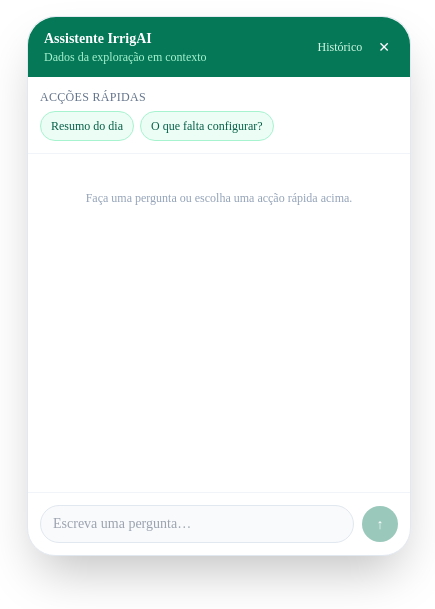
Scenario: ChatPanel › ignores conversation detail arriving after a newer send
Type "nova" into the field with placeholder "Escreva uma pergunta…". click: (197, 524)
box: [40,505,354,543]
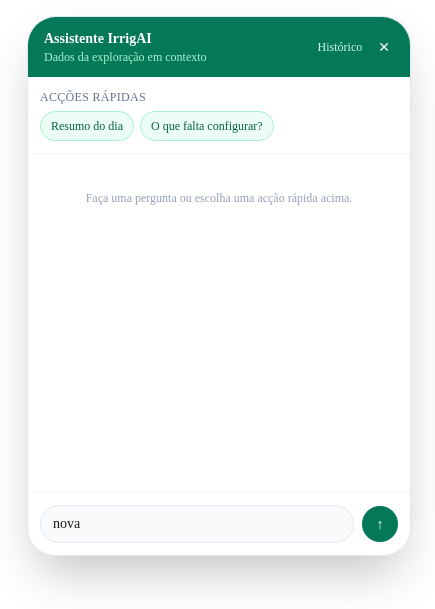
Click the button named "Enviar". click: (380, 524)
box: [362,506,398,542]
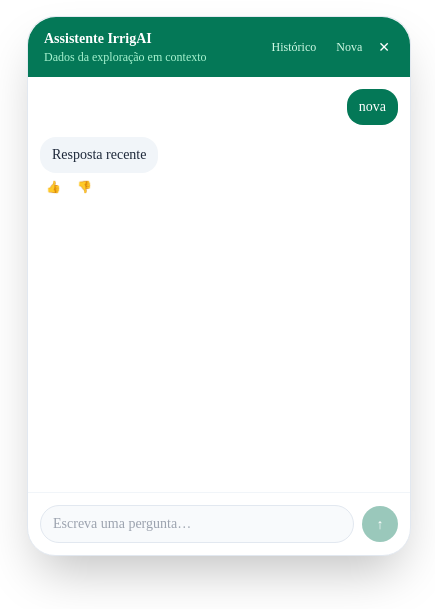
Result: the text "Resposta recente" is shown at [40,137,158,173]
